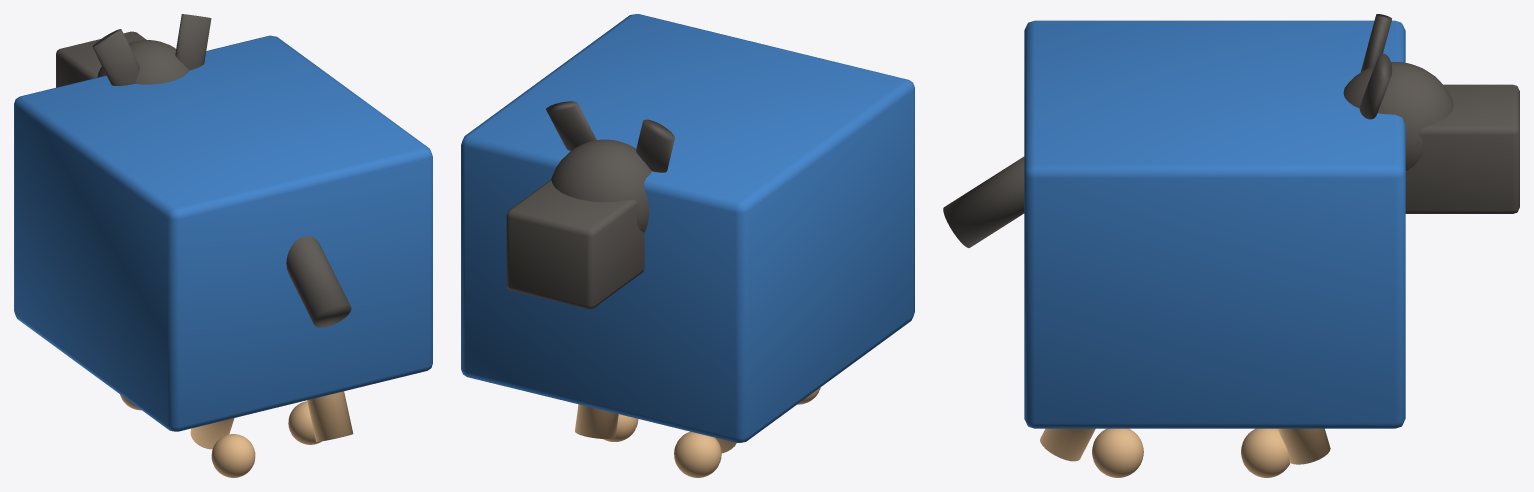
Rendered from police_dog.glb.
3 views of the same model, side by side, from view 1: azimuth 30°, elevation 25°; view 2: azimuth 150°, elevation 25°; view 3: azimuth 270°, elevation 25° (orthographic). The views are drawn at different scales.
Parts seen in each view (by area): view 1: PoliceVest, DogTail, HeadMask, Muzzle, Ear_-0.14, Leg_0.18_-0.25, Ear_0.14, Paw_-0.18_-0.25, Paw_0.18_-0.25, Leg_-0.18_-0.25; view 2: PoliceVest, Muzzle, HeadMask, Paw_-0.18_0.28, Ear_-0.14, Ear_0.14, Leg_0.18_0.28, Paw_0.18_0.28; view 3: PoliceVest, Muzzle, HeadMask, DogTail, Paw_0.18_-0.25, Paw_0.18_0.28, Leg_0.18_0.28, Leg_0.18_-0.25, Ear_0.14, Ear_-0.14.
Boxes of the visible parts, x1=… form: PoliceVest: x1=14, y1=35, x2=432, y2=431; DogTail: x1=286, y1=236, x2=351, y2=327; HeadMask: x1=97, y1=40, x2=189, y2=84; Muzzle: x1=56, y1=31, x2=146, y2=87; Ear_-0.14: x1=92, y1=29, x2=139, y2=85; Leg_0.18_-0.25: x1=307, y1=391, x2=353, y2=441; Ear_0.14: x1=175, y1=14, x2=211, y2=70; Paw_-0.18_-0.25: x1=211, y1=434, x2=255, y2=477; Paw_0.18_-0.25: x1=288, y1=401, x2=321, y2=444; Leg_-0.18_-0.25: x1=190, y1=418, x2=234, y2=449; PoliceVest: x1=461, y1=14, x2=914, y2=442; Muzzle: x1=506, y1=180, x2=644, y2=309; HeadMask: x1=551, y1=139, x2=651, y2=232; Paw_-0.18_0.28: x1=674, y1=431, x2=721, y2=477; Ear_-0.14: x1=636, y1=119, x2=674, y2=172; Ear_0.14: x1=546, y1=101, x2=596, y2=150; Leg_0.18_0.28: x1=575, y1=404, x2=618, y2=438; Paw_0.18_0.28: x1=603, y1=414, x2=638, y2=441; PoliceVest: x1=1024, y1=20, x2=1405, y2=428; Muzzle: x1=1405, y1=84, x2=1519, y2=213; HeadMask: x1=1343, y1=62, x2=1453, y2=170; DogTail: x1=943, y1=156, x2=1024, y2=247; Paw_0.18_-0.25: x1=1092, y1=428, x2=1143, y2=477; Paw_0.18_0.28: x1=1241, y1=428, x2=1289, y2=477; Leg_0.18_0.28: x1=1278, y1=428, x2=1330, y2=464; Leg_0.18_-0.25: x1=1040, y1=428, x2=1095, y2=461; Ear_0.14: x1=1359, y1=53, x2=1392, y2=119; Ear_-0.14: x1=1360, y1=14, x2=1391, y2=72.
Bounding box in the file's own units: 1.04 × 1.32 × 1.66.
